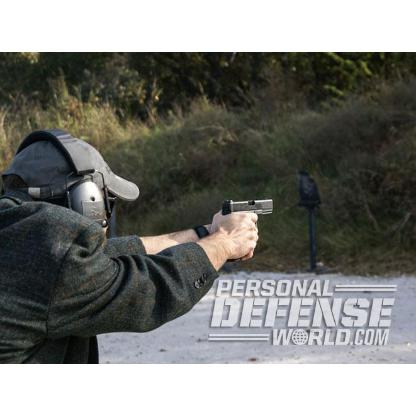gun: (219, 196, 278, 256)
